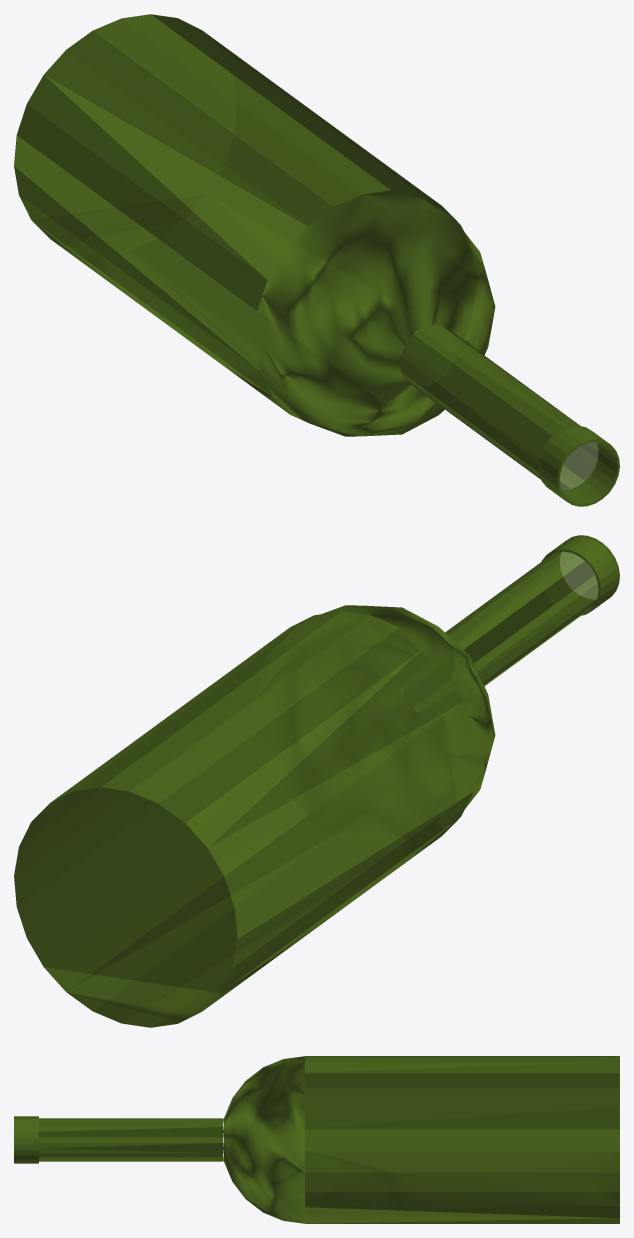
Rendered from model_align.obj.
3 views of the same model, one above another, from view 1: azimuth 30°, elevation 25°; view 2: azimuth 150°, elevation 25°; view 3: azimuth 270°, elevation 25° (orthographic). The views are drawn at different scales.
Size of the model in its own units: 0.0427 by 0.0427 by 0.1533.
